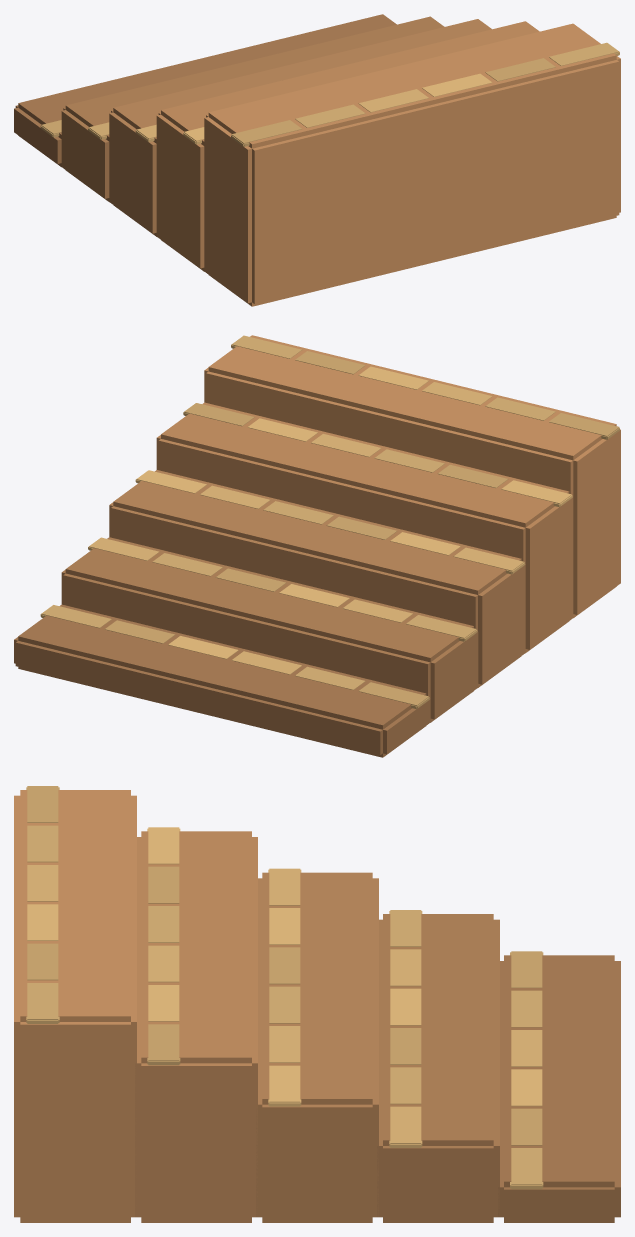
The model's file is summit-steps.glb.
3 views of the same model, one above another, from view 1: azimuth 30°, elevation 25°; view 2: azimuth 150°, elevation 25°; view 3: azimuth 270°, elevation 25° (orthographic). The views are drawn at different scales.
Visible parts, largest first — view 1: summit-steps; view 2: summit-steps; view 3: summit-steps.
Part boxes in pixels (x1,y1,x2,y2): summit-steps: (14, 14, 620, 306); summit-steps: (14, 335, 620, 757); summit-steps: (14, 786, 620, 1222).
Size of the model in its own units: 3.1 by 1.28 by 3.4.
